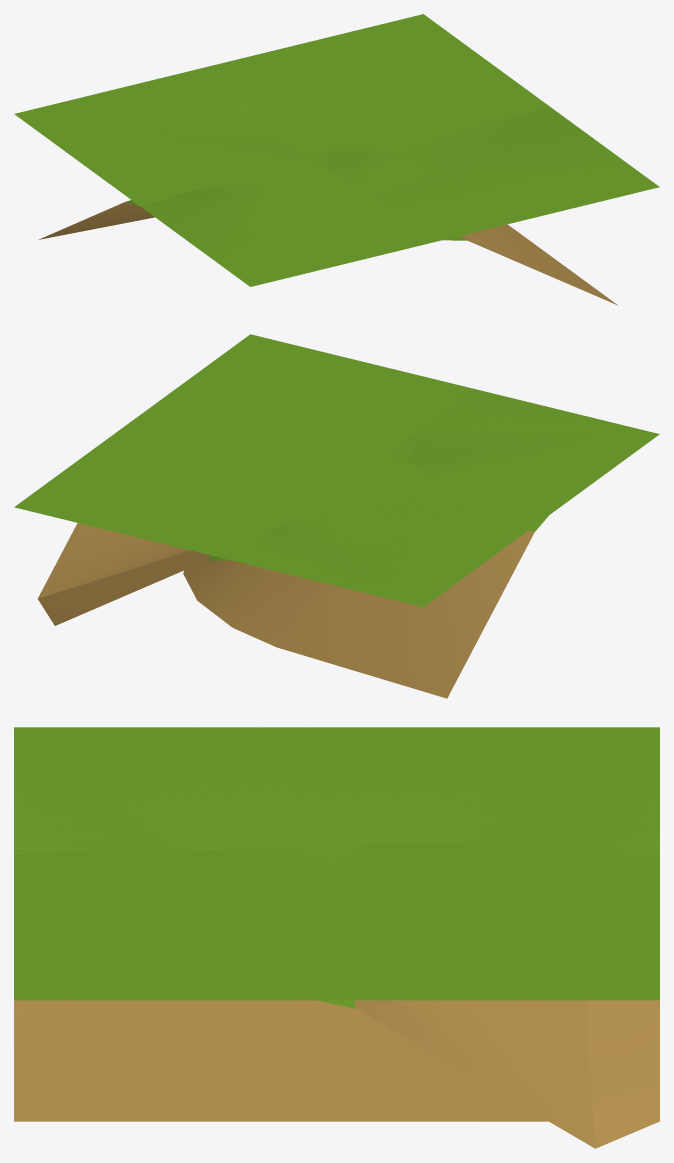
The model's file is wfc_modules.glb.
3 renders of one model, top to bottom at view 1: azimuth 30°, elevation 25°; view 2: azimuth 150°, elevation 25°; view 3: azimuth 270°, elevation 25°, orthographic. The views are drawn at different scales.
Visible parts, largest first — view 1: wfc_simple_0, wfc_simple_1, wfc_simple_3, wfc_simple_2; view 2: wfc_simple_0, wfc_simple_2, wfc_simple_3, wfc_simple_1; view 3: wfc_simple_0, wfc_simple_1, wfc_simple_3, wfc_simple_2.
Part boxes in pixels (x1,y1,x2,y2): wfc_simple_0: [15, 14, 659, 286]; wfc_simple_1: [15, 75, 618, 305]; wfc_simple_3: [17, 75, 658, 284]; wfc_simple_2: [38, 182, 438, 285]; wfc_simple_0: [14, 334, 659, 606]; wfc_simple_2: [183, 390, 658, 698]; wfc_simple_3: [37, 335, 654, 625]; wfc_simple_1: [252, 388, 658, 607]; wfc_simple_0: [14, 727, 659, 1000]; wfc_simple_1: [14, 727, 659, 1121]; wfc_simple_3: [14, 727, 659, 1148]; wfc_simple_2: [14, 727, 319, 852].
Size of the model in its own units: 1 by 0.2538 by 1.
